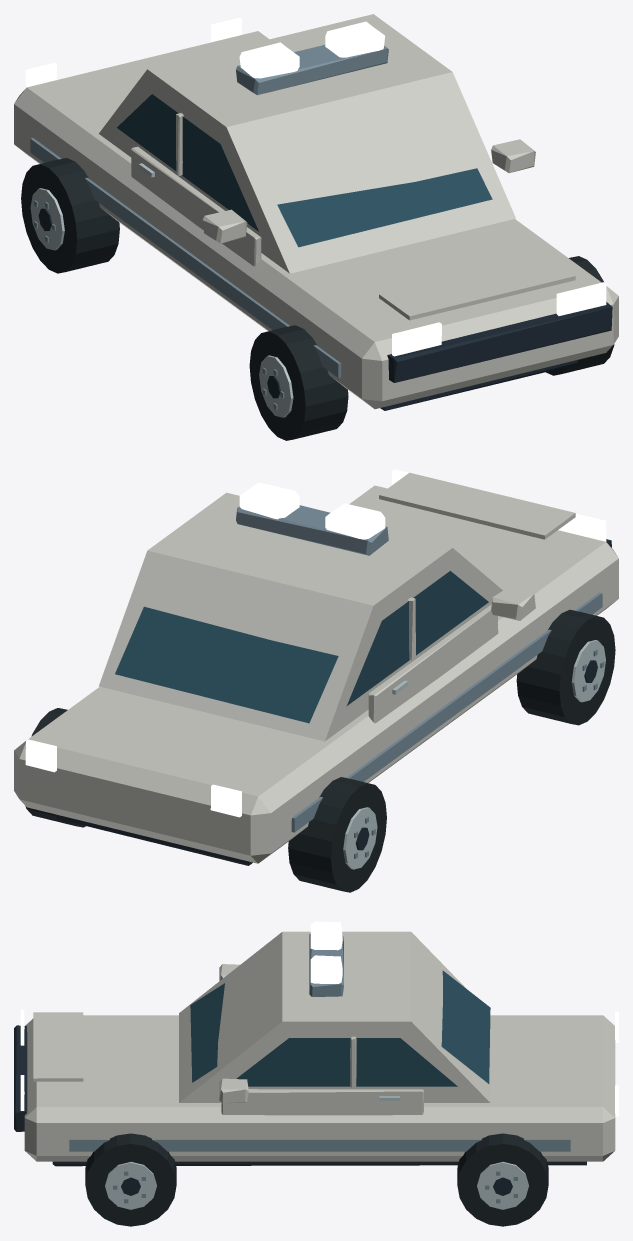
Rendered from road-police.lod1.glb.
The picture shows the model from 3 angles, top to bottom: view 1: azimuth 30°, elevation 25°; view 2: azimuth 150°, elevation 25°; view 3: azimuth 270°, elevation 25°; orthographic projection. The views are drawn at different scales.
Visible parts, largest first — view 1: road-police__body, road-police__door_-1, road-police__wheel_steer_0_l, road-police__wheel_steer_1_l, road-police__wheel_steer_0_r; view 2: road-police__body, road-police__door_-1, road-police__wheel_steer_1_l, road-police__wheel_steer_0_l, road-police__wheel_steer_1_r; view 3: road-police__body, road-police__door_1, road-police__wheel_steer_0_r, road-police__wheel_steer_1_r.
Boxes of the visible parts, x1,y1,x2,y2 form: road-police__body: (14, 14, 618, 410); road-police__door_-1: (117, 94, 261, 266); road-police__wheel_steer_0_l: (249, 325, 348, 440); road-police__wheel_steer_1_l: (21, 158, 119, 273); road-police__wheel_steer_0_r: (546, 256, 614, 375); road-police__body: (14, 469, 618, 865); road-police__door_-1: (346, 571, 498, 723); road-police__wheel_steer_1_l: (288, 777, 386, 892); road-police__wheel_steer_0_l: (516, 609, 615, 725); road-police__wheel_steer_1_r: (25, 708, 86, 827); road-police__body: (14, 921, 618, 1166); road-police__door_1: (221, 1036, 457, 1115); road-police__wheel_steer_0_r: (85, 1133, 176, 1226); road-police__wheel_steer_1_r: (457, 1133, 548, 1226).
Size of the model in its own units: 2.25 by 1.81 by 4.51.
